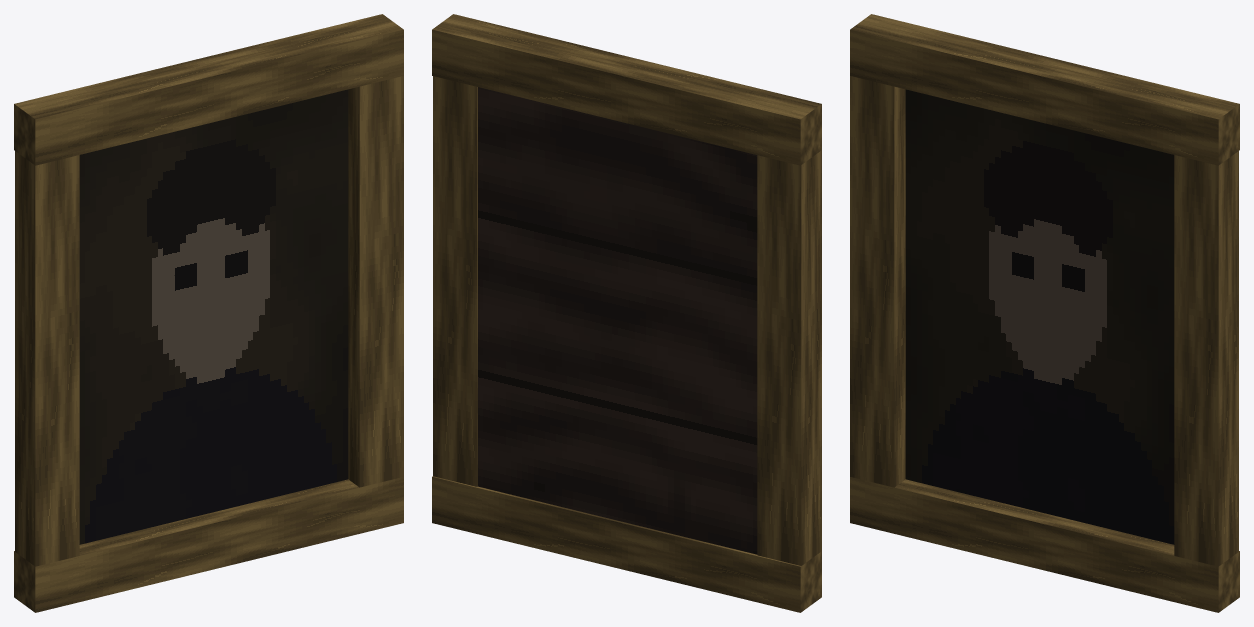
The model's file is PSXH_Frame_Portrait_A.glb.
The picture shows the model from 3 angles, left to right: view 1: azimuth 30°, elevation 25°; view 2: azimuth 150°, elevation 25°; view 3: azimuth 330°, elevation 25°; orthographic projection.
Parts seen in each view (by area): view 1: PSXH_Frame_Portrait_A; view 2: PSXH_Frame_Portrait_A; view 3: PSXH_Frame_Portrait_A.
Part boxes in pixels (<box>): PSXH_Frame_Portrait_A: <box>14,14,403,612</box>; PSXH_Frame_Portrait_A: <box>432,14,821,612</box>; PSXH_Frame_Portrait_A: <box>850,14,1239,612</box>.
Bounding box in the file's own units: 0.5 × 0.64 × 0.05.
Materials: 1 (1 with a texture image).
